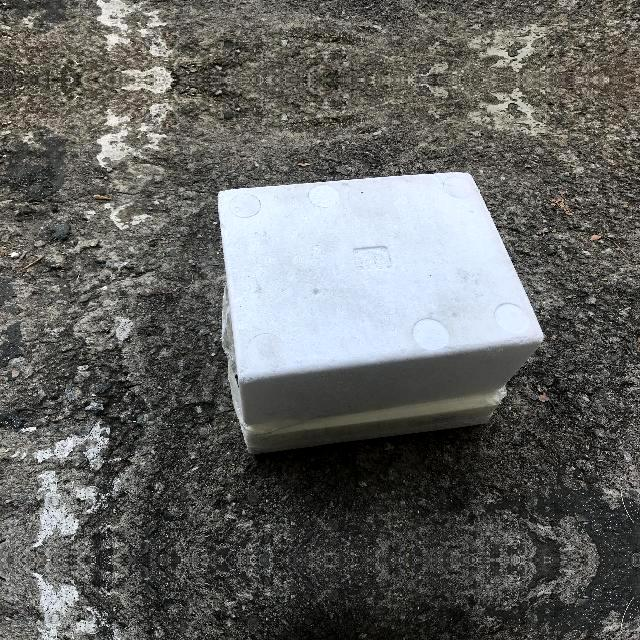Styrofoam: (216, 170, 542, 456), (218, 172, 545, 454)
